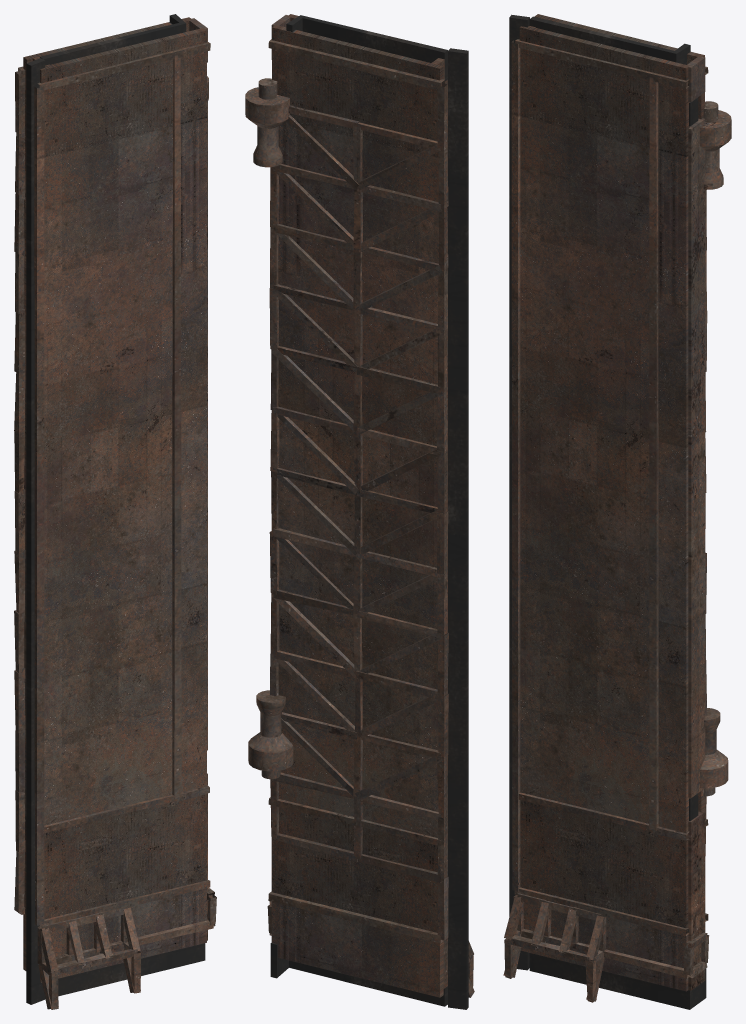
Rendered from test_botbox_door.fbx.
The picture shows the model from 3 angles, left to right: view 1: azimuth 30°, elevation 25°; view 2: azimuth 150°, elevation 25°; view 3: azimuth 330°, elevation 25°; orthographic projection.
Parts seen in each view (by area): view 1: Cylinder; view 2: Cylinder; view 3: Cylinder.
Boxes of the visible parts, x1=… form: Cylinder: x1=14, y1=14, x2=216, y2=1009; Cylinder: x1=245, y1=14, x2=474, y2=1009; Cylinder: x1=503, y1=14, x2=731, y2=1009.
Size of the model in its own units: 90.32 by 412 by 36.46.
